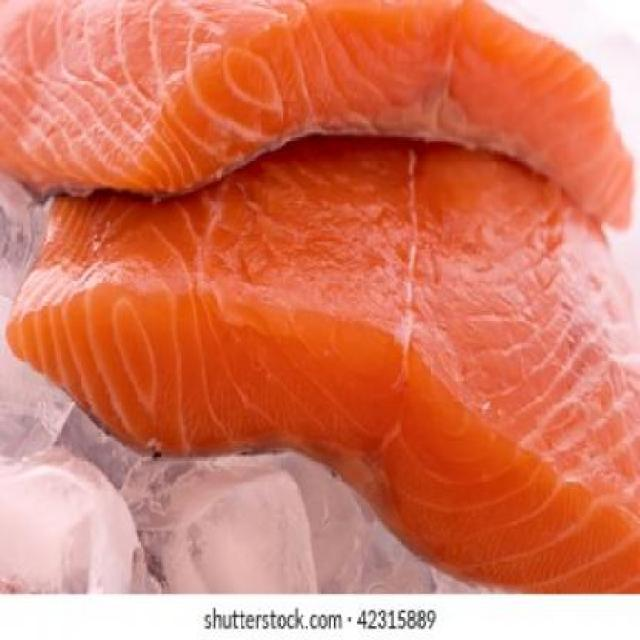salmon: (20, 60, 640, 595), (1, 3, 640, 236)
